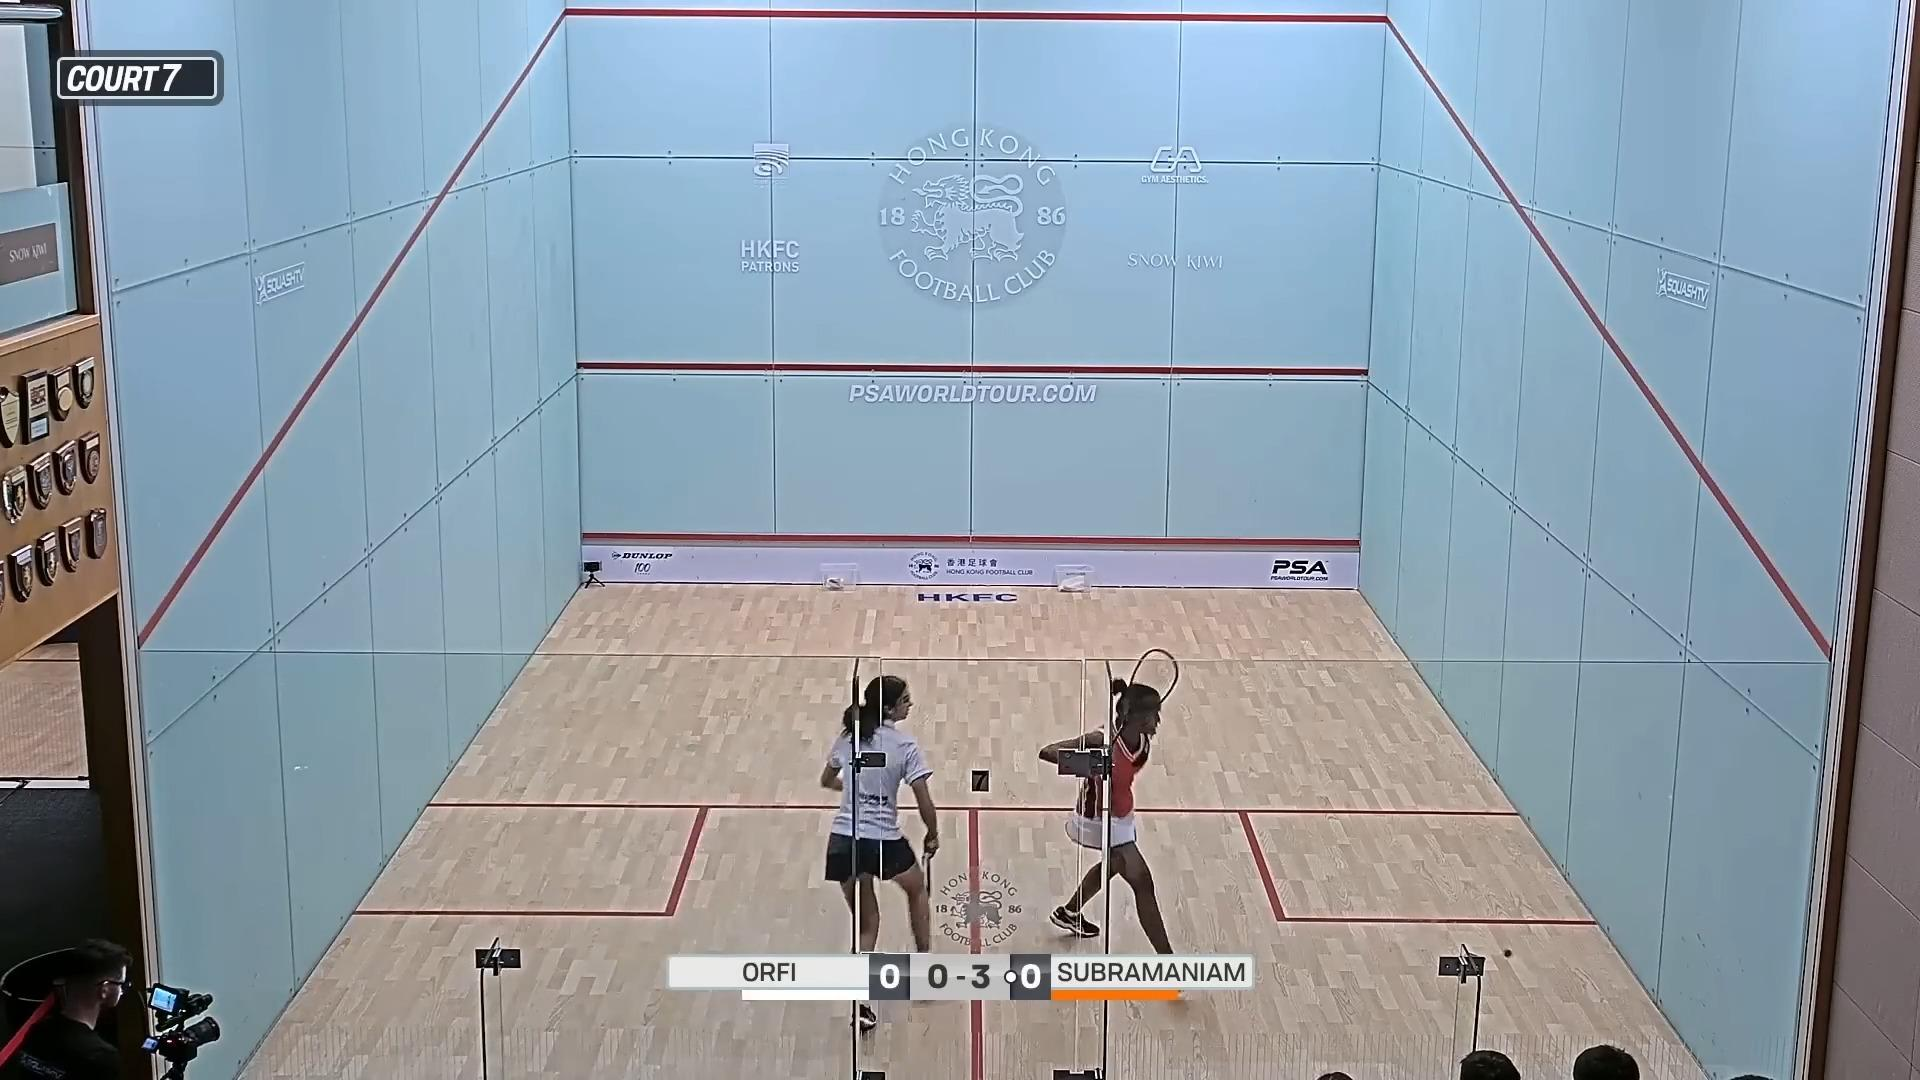Squash-Ball: (1490, 939, 1520, 968)
